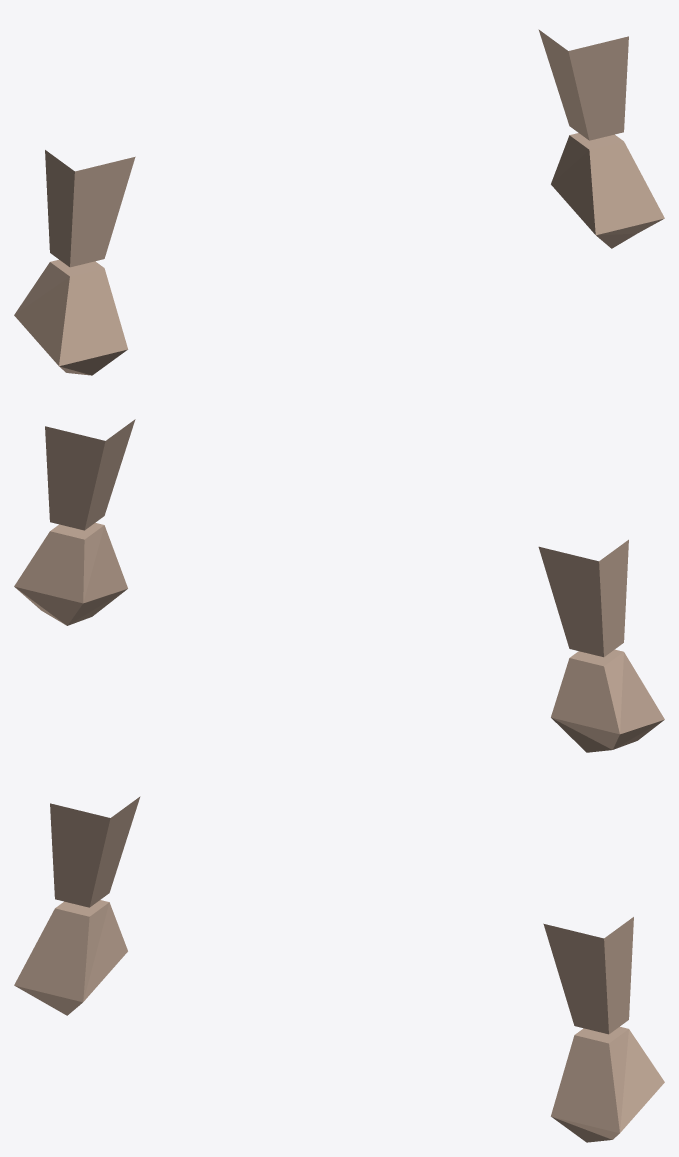
File: man-hands.glb
The picture shows the model from 3 angles, top to bottom: view 1: azimuth 30°, elevation 25°; view 2: azimuth 150°, elevation 25°; view 3: azimuth 330°, elevation 25°; orthographic projection.
Visible parts, largest first — view 1: runescapemodel; view 2: runescapemodel; view 3: runescapemodel.
Boxes of the visible parts, bbox=[...] form: runescapemodel: bbox=[14, 29, 664, 375]; runescapemodel: bbox=[14, 419, 664, 752]; runescapemodel: bbox=[14, 796, 664, 1142].
Bounding box in the file's own units: 70 × 23 × 9.
